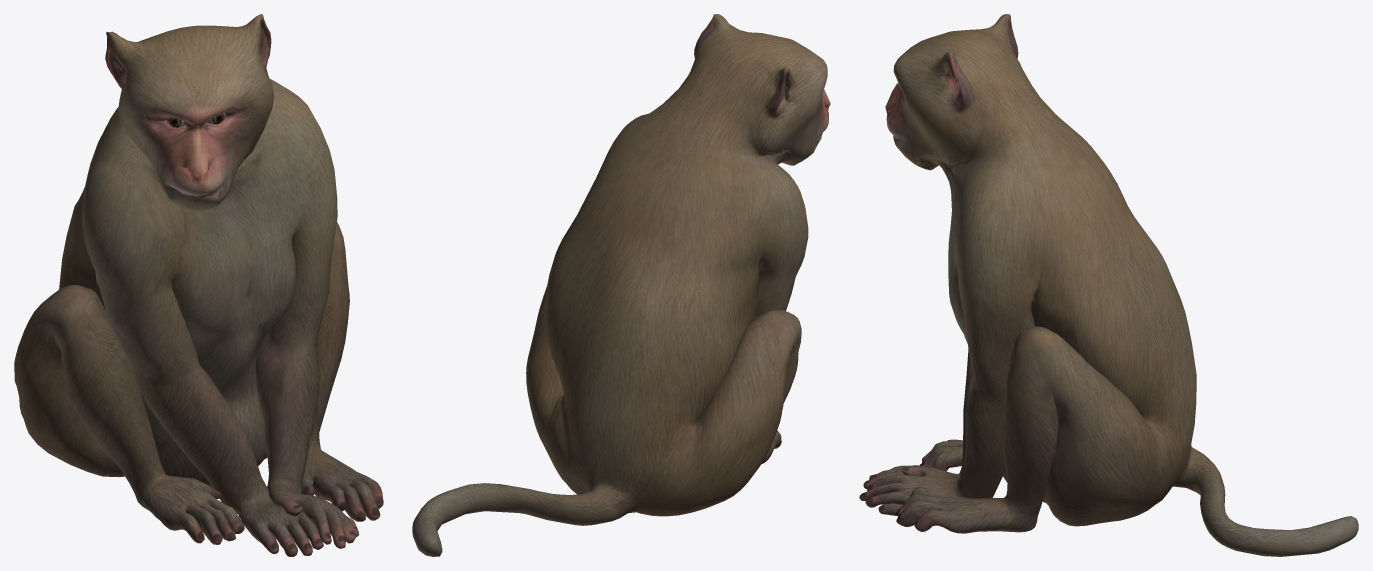
Rendered from capuchin.glb.
3 views of the same model, side by side, from view 1: azimuth 30°, elevation 25°; view 2: azimuth 150°, elevation 25°; view 3: azimuth 270°, elevation 25° (orthographic). The views are drawn at different scales.
Parts seen in each view (by area): view 1: Object_5; view 2: Object_5; view 3: Object_5.
Part boxes in pixels (x1,y1,x2,y2): Object_5: [14, 14, 383, 556]; Object_5: [412, 14, 830, 556]; Object_5: [859, 14, 1358, 556].
Bounding box in the file's own units: 0.0296 × 0.0455 × 0.0463.
1 material, 1 textured.
